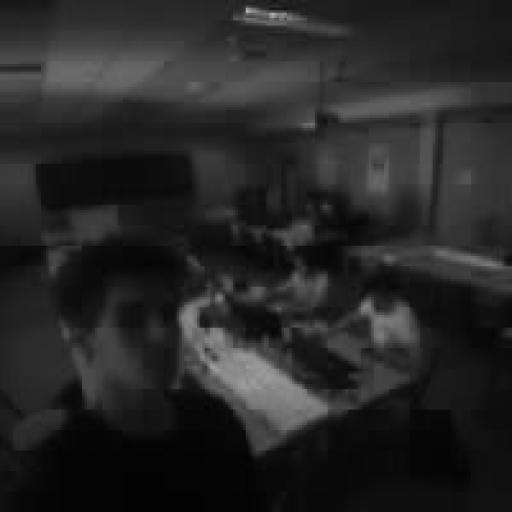human: (11, 236, 266, 511), (333, 267, 422, 373), (267, 251, 330, 314), (162, 226, 209, 293)
